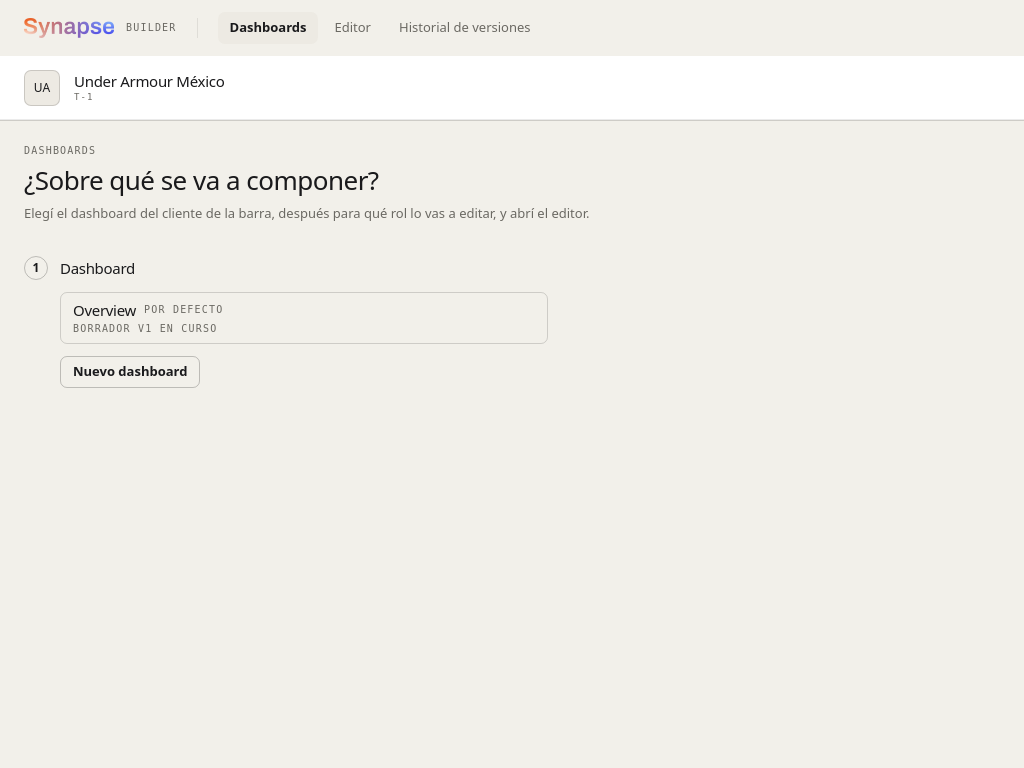
Test: el chrome NO es uniforme · corregido contra el `.pen` › «Dashboards» NO repite el rol en la cabecera · es el control del cuerpo
Click the button "Overview Por defecto Borrador v1 en curso". click: coordinates (105, 310)
box: [60,292,548,344]
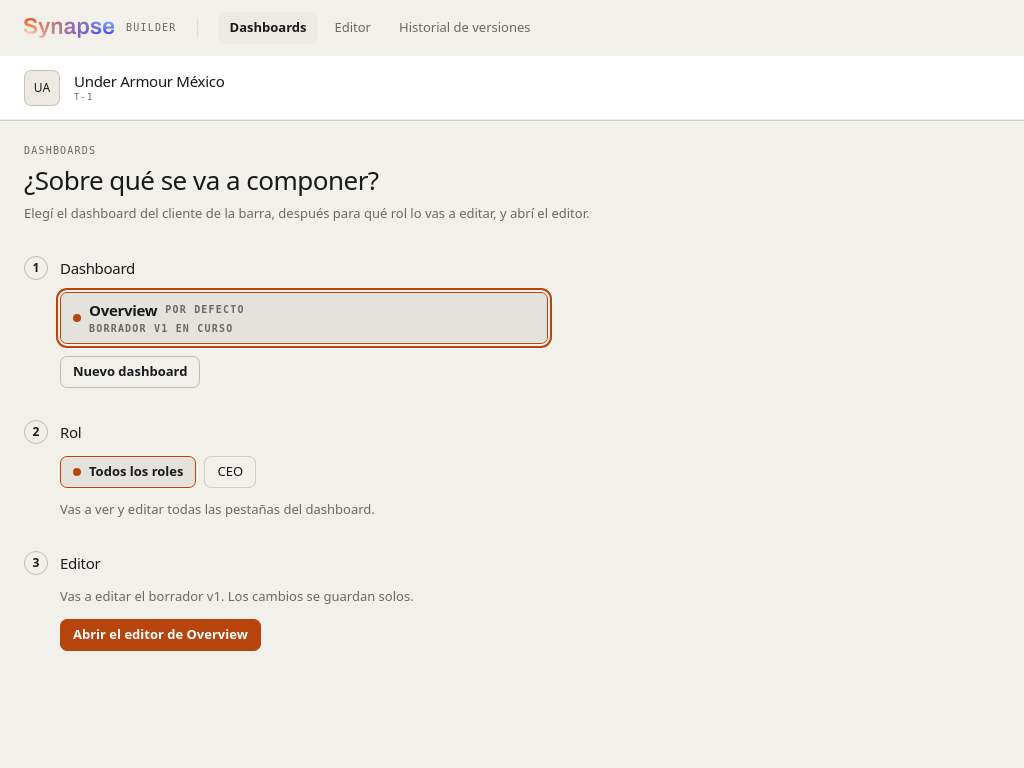
Expected: the text "Under Armour México" is shown, [74,72,224,90]
Expected: the element "rol" is shown, [60,456,256,488]
